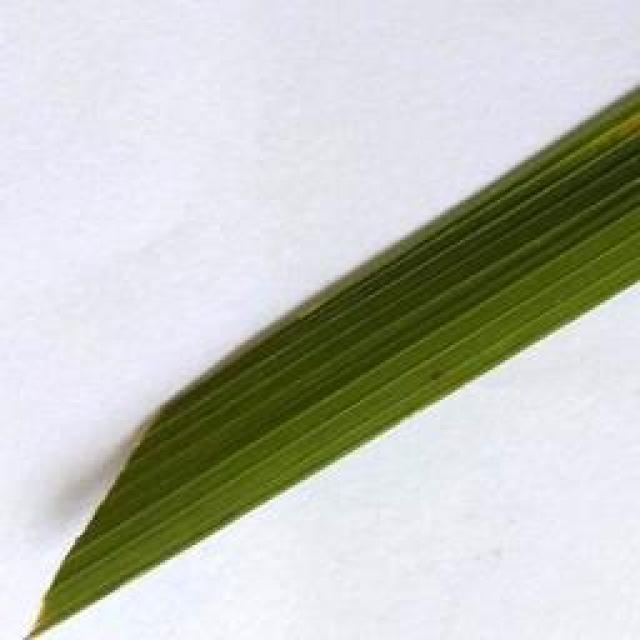Brown_Spot: (434, 371, 447, 384)
